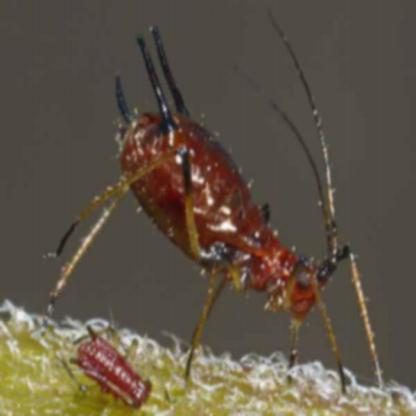uroleucon compositae: (113, 29, 347, 373)
